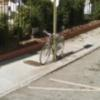bicycles: (38, 29, 66, 66)
